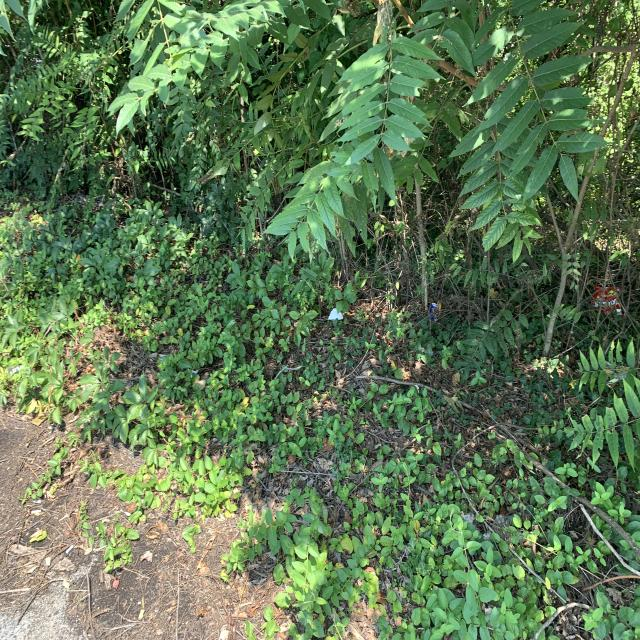Can-Metal: (426, 300, 440, 320)
Plastic: (587, 282, 625, 320)
Trash -everything else-: (326, 307, 345, 326)
